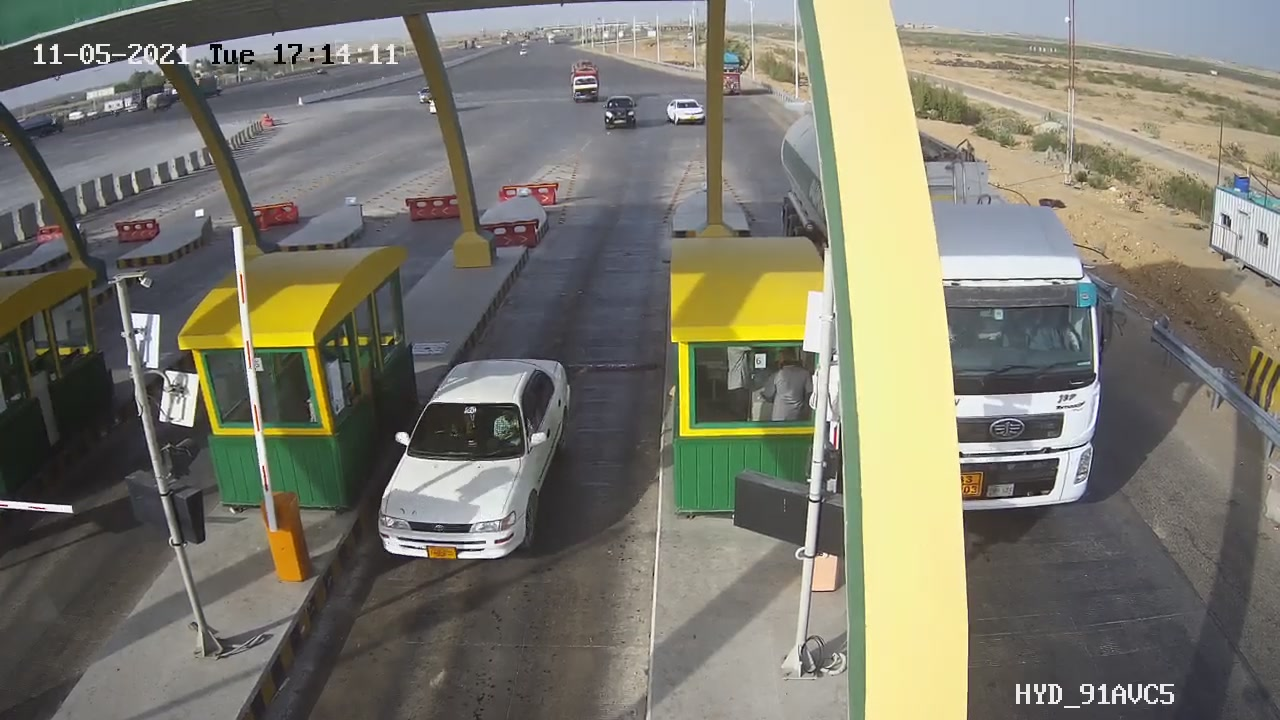F1: (363, 343, 590, 581)
